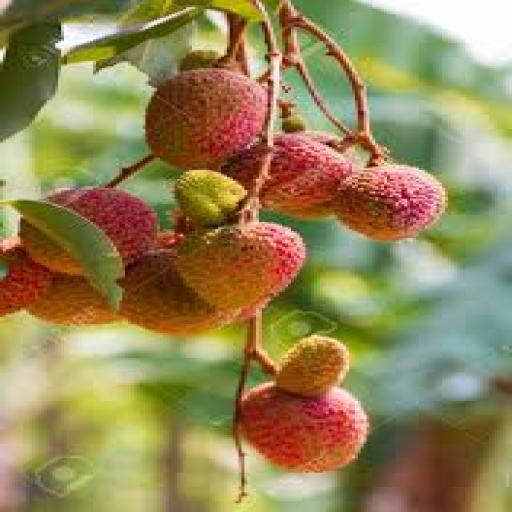lychee: (146, 69, 267, 168), (242, 384, 369, 472), (178, 222, 305, 309), (123, 249, 235, 334), (335, 165, 447, 241), (47, 187, 157, 263), (262, 133, 354, 218), (27, 274, 122, 325), (277, 335, 349, 395), (175, 171, 247, 227), (0, 239, 52, 316), (181, 51, 221, 71), (283, 115, 308, 132)
